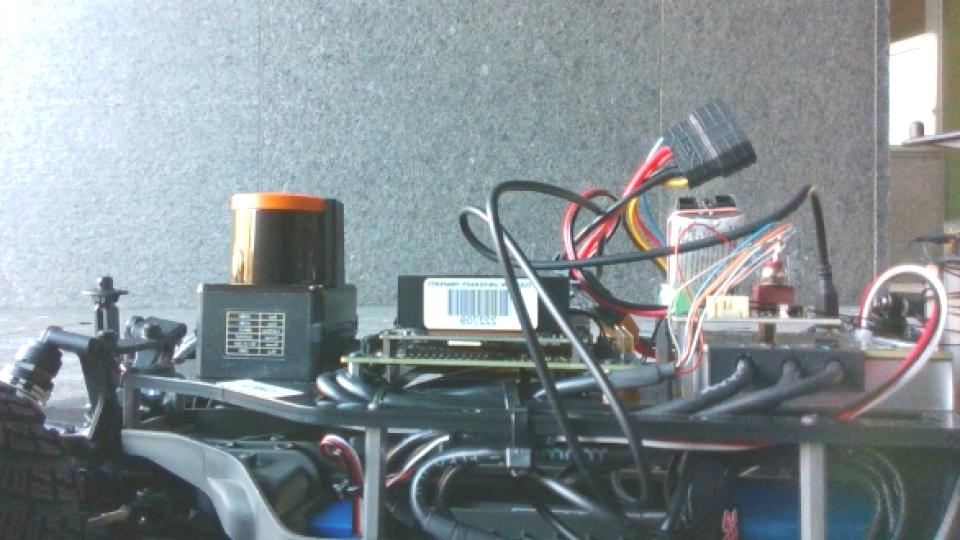car: (0, 97, 957, 540)
